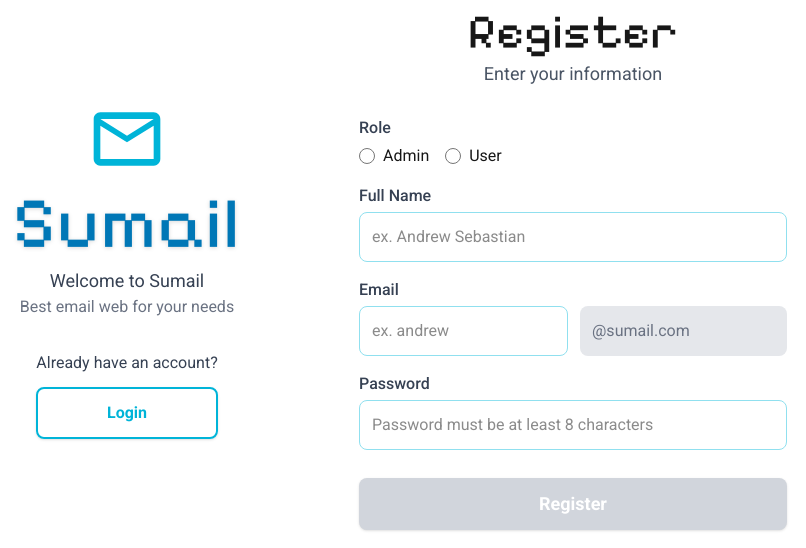
Test case: Register Page › validates form input and enables button
The image size is (806, 548).
Type "John Doe" into the field with placeholder "ex. Andrew Sebastian" at [573, 237], box [359, 212, 787, 262]
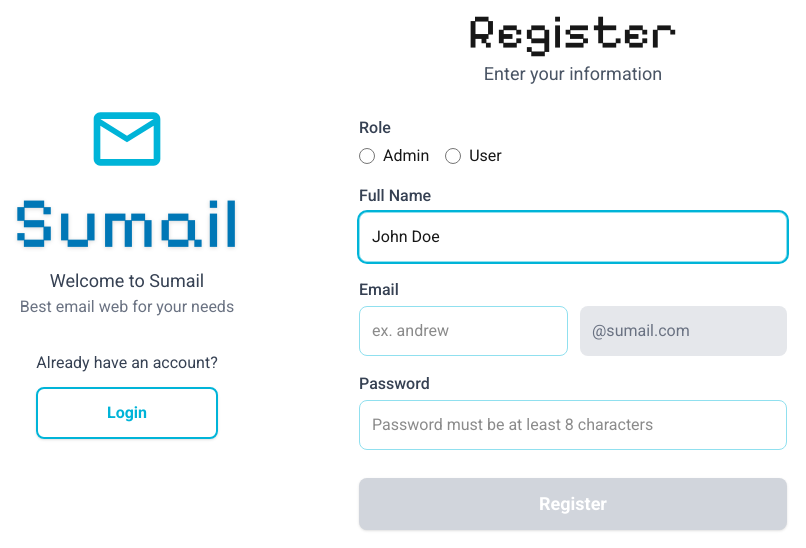
Type "johndoe" into the field with placeholder "ex. andrew" at [464, 331], box [359, 306, 568, 356]
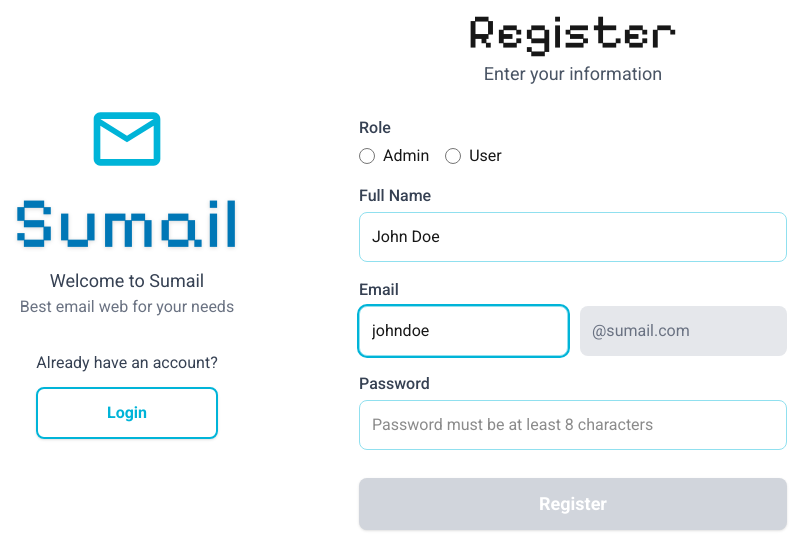
Type "securePassword123" into the password field with placeholder "Password must be at least 8 characters" at [573, 425], box [359, 400, 787, 450]
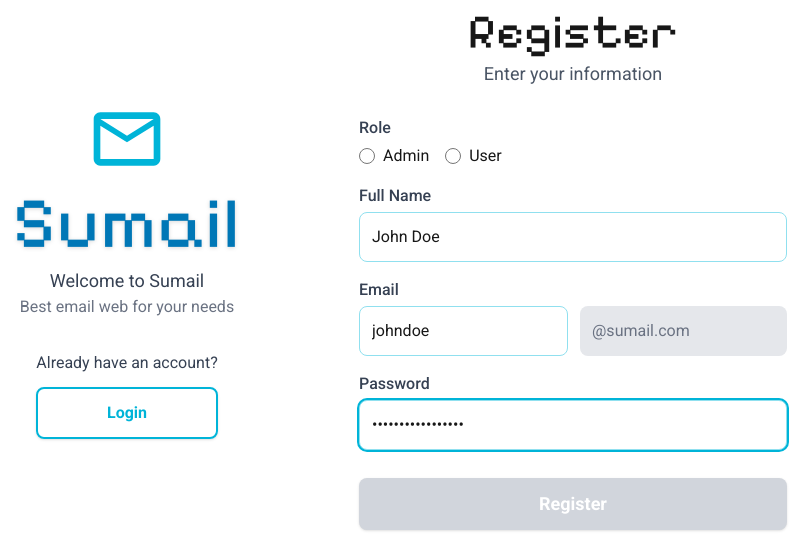
Click the radio button labelled "Admin" at [367, 156], box [359, 148, 375, 164]
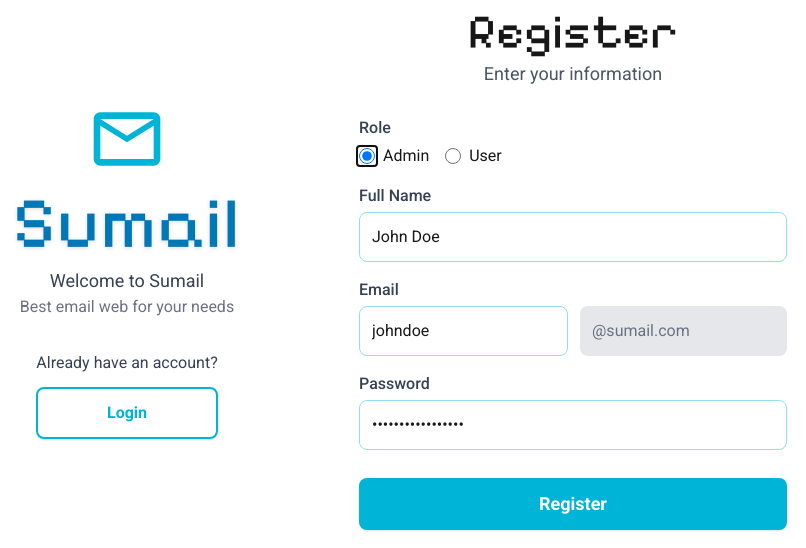
Expected: the button "Register" is enabled, [359, 478, 787, 530]
